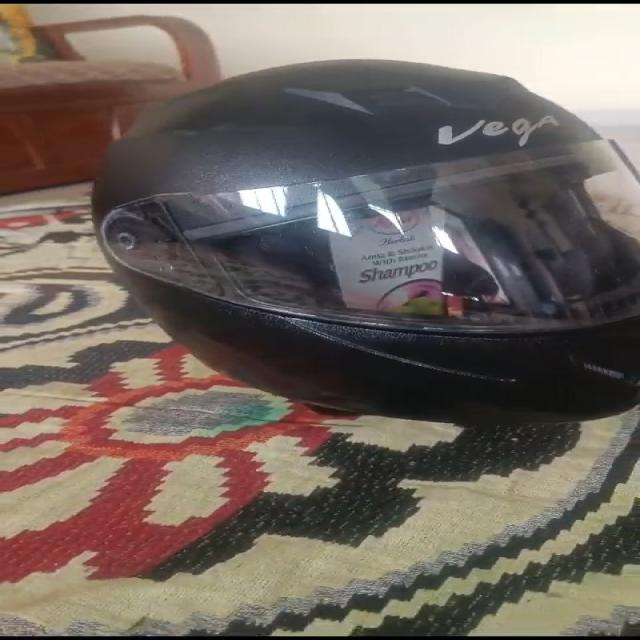Helmet: (94, 60, 639, 421)
